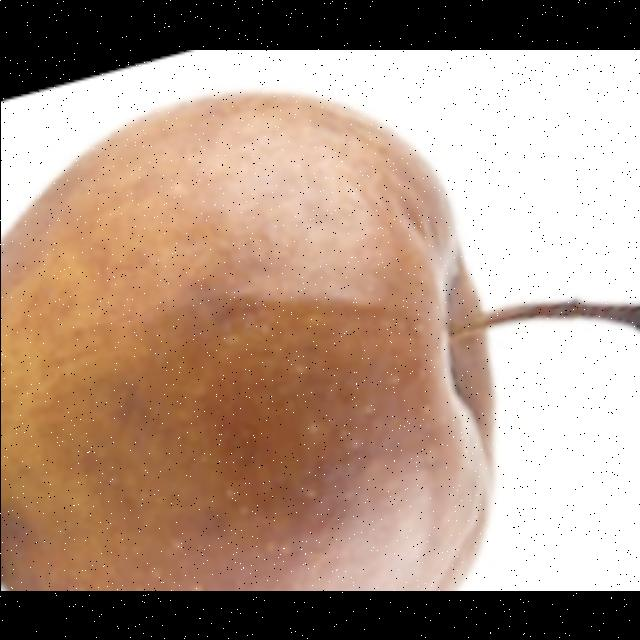Apel Tidak Segar: (1, 80, 506, 590)
